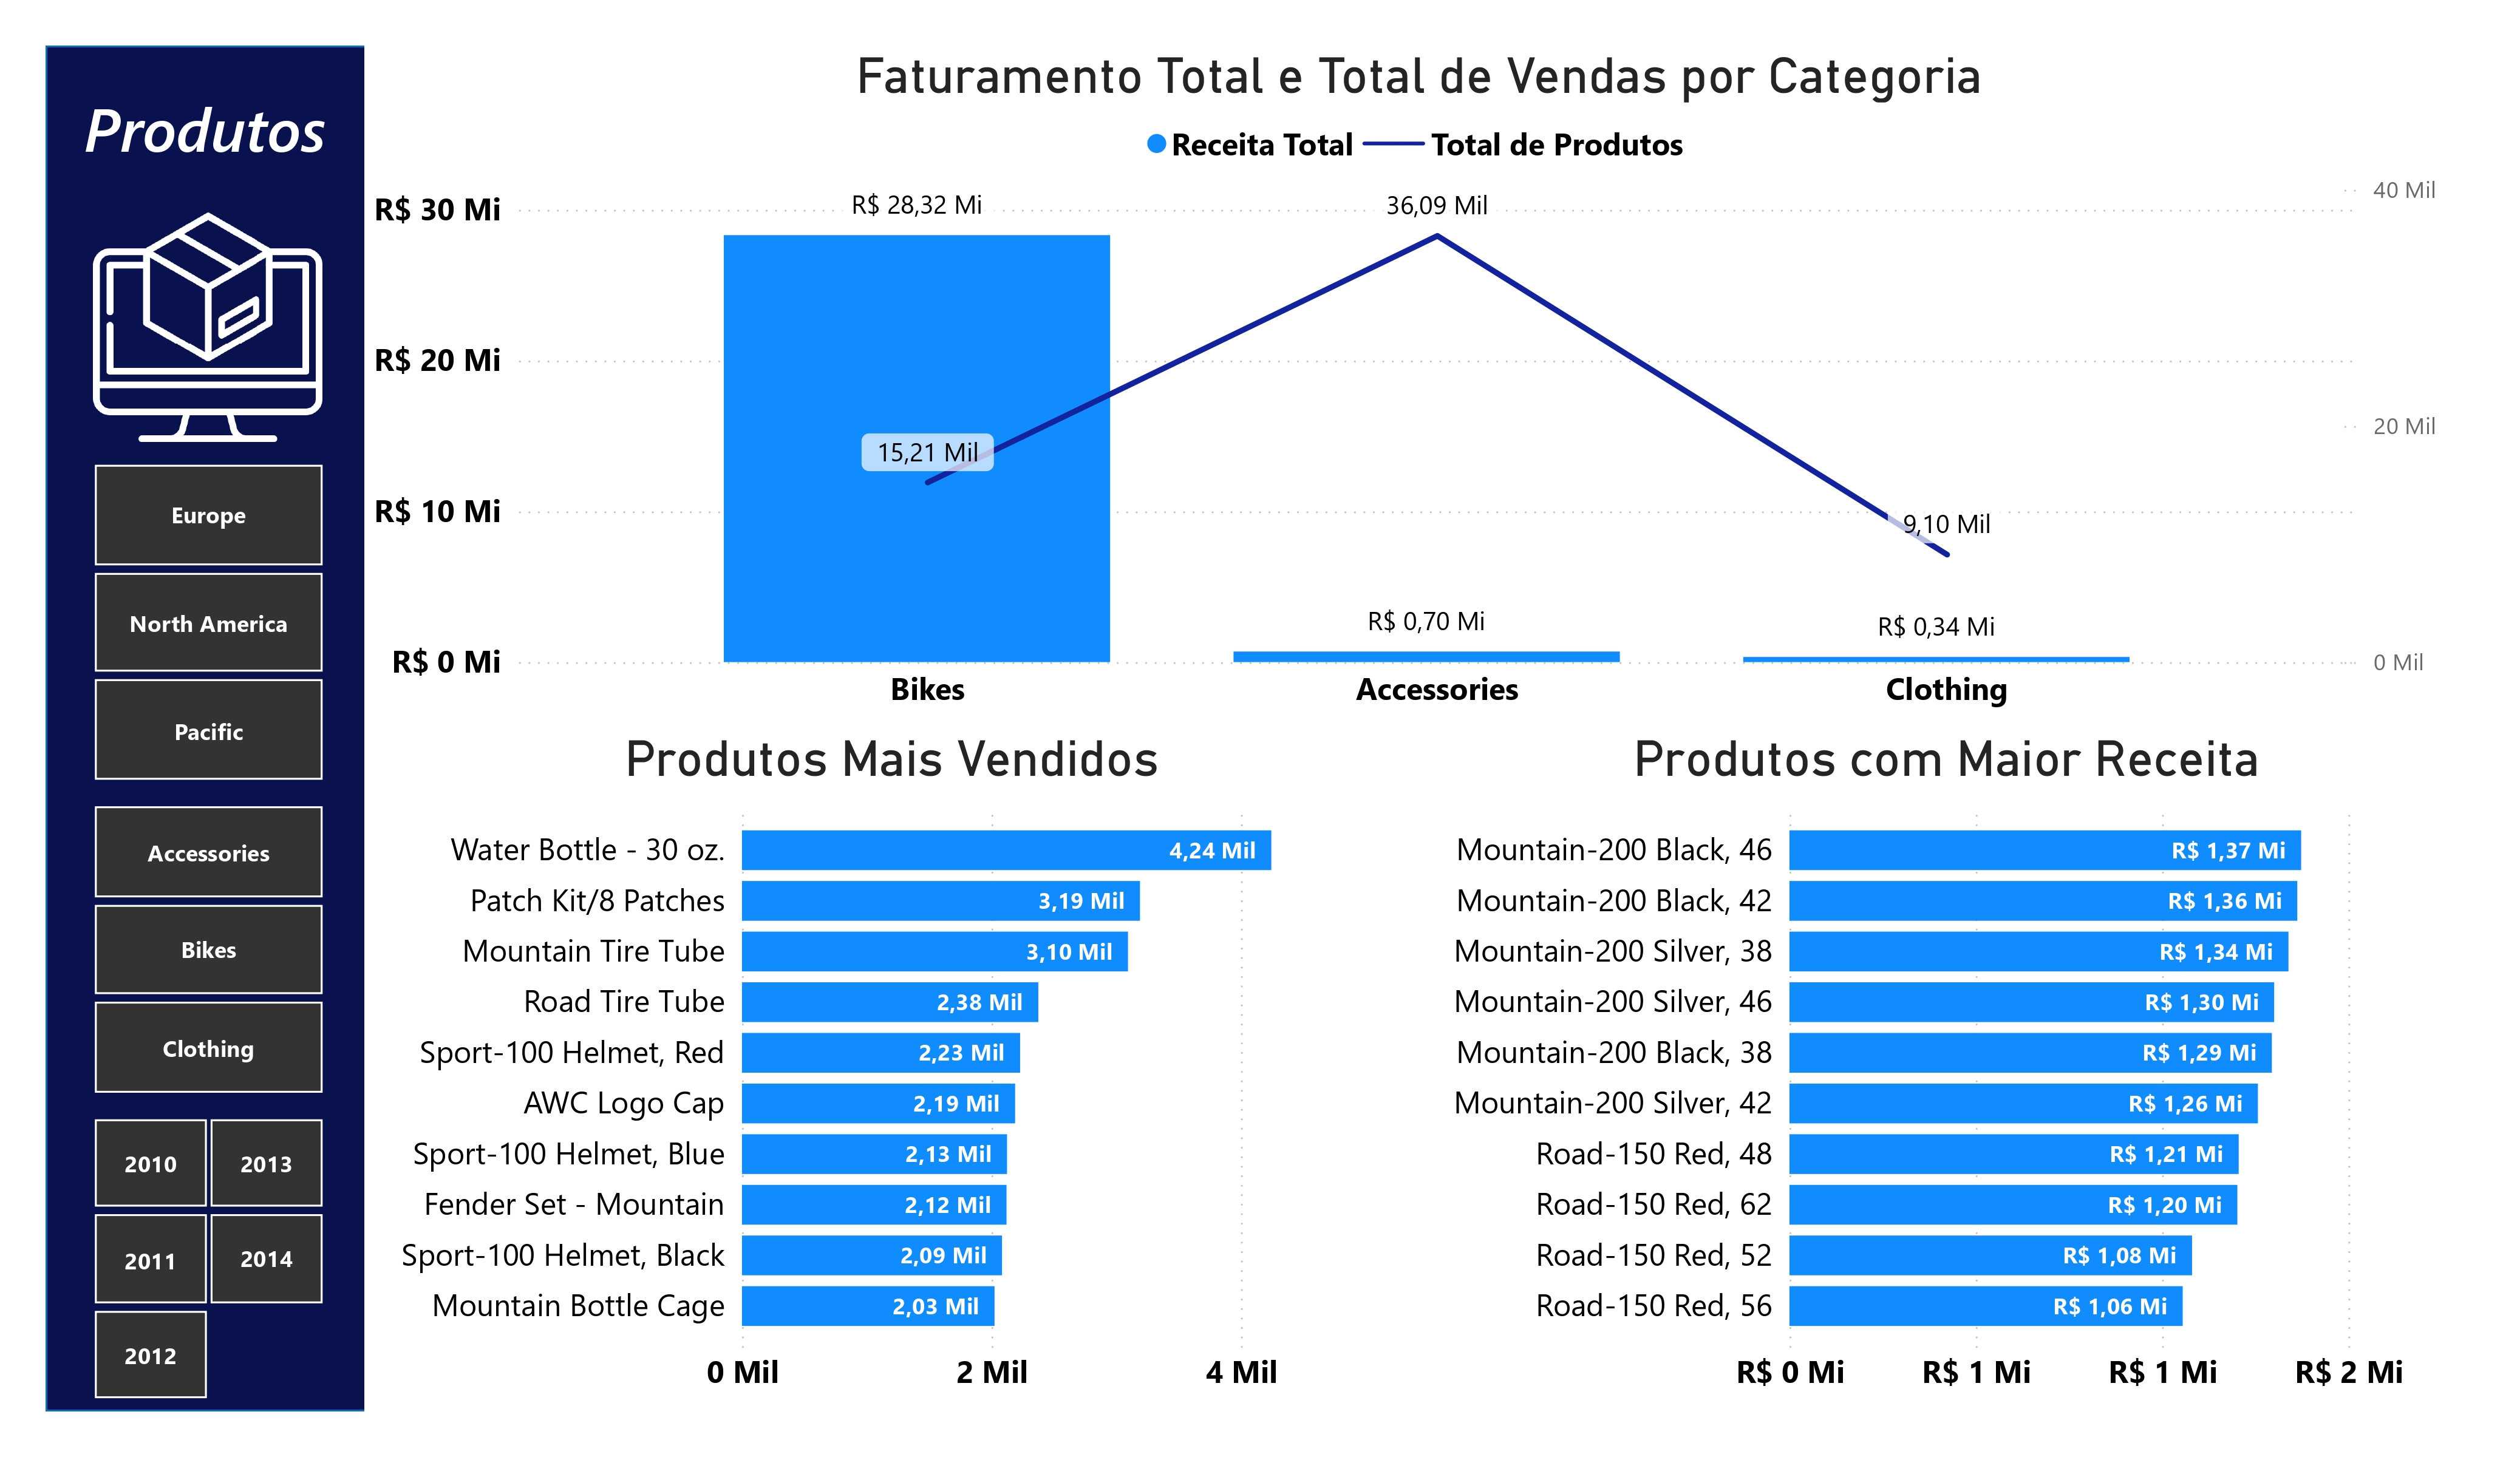

What the dashboard file says about the page in this screenshot:
{"tool":"powerbi","page":{"name":"Produtos","canvas":[1280,720],"ordinal":1},"visuals":[{"type":"shape","box":[0,0,169,720],"z":0},{"type":"lineStackedColumnComboChart","title":"Faturamento Total e Total de Vendas por Categoria","fields":{"Category":["BaseAW.EnglishProductCategoryName"],"Y":["BaseAW.Receita Total"],"Y2":["BaseAW.Total de Produtos"]},"box":[168.3,0,1112.2,360],"z":1000},{"type":"barChart","title":"Produtos Mais Vendidos","fields":{"Y":["Sum(BaseAW.OrderQuantity)"],"Category":["BaseAW.EnglishProductName"]},"box":[168.3,360,556.1,360],"z":2000},{"type":"textbox","box":[0,16.1,168.3,67.3],"z":3000},{"type":"image","box":[0,83.4,169.8,130.2],"z":4000},{"type":"slicer","fields":{"Values":["BaseAW.EnglishProductCategoryName"]},"box":[0,393.7,169.8,165.4],"z":5000},{"type":"slicer","fields":{"Values":["Calendario.Ano"]},"box":[0,559,169.8,161],"z":6000},{"type":"slicer","fields":{"Values":["BaseAW.SalesTerritoryGroup"]},"box":[0,213.7,169.8,180],"z":7000},{"type":"barChart","title":"Produtos com Maior Receita","fields":{"Category":["BaseAW.EnglishProductName"],"Y":["BaseAW.Receita Total"]},"box":[724.4,360,556.1,360],"z":8000}]}

Visuals, with their boxes on the page's 1280x720 design canvas (x1, y1, x2, y2). These are canvas units, not pixel positions in the 2520x1457 screenshot, which may show the page scaled, cropped or inside an application window:
shape: 0/0/169/720
"Faturamento Total e Total de Vendas por Categoria" lineStackedColumnComboChart: 168/0/1280/360
"Produtos Mais Vendidos" barChart: 168/360/724/720
textbox: 0/16/168/83
image: 0/83/170/214
slicer - BaseAW.EnglishProductCategoryName: 0/394/170/559
slicer - Calendario.Ano: 0/559/170/720
slicer - BaseAW.SalesTerritoryGroup: 0/214/170/394
"Produtos com Maior Receita" barChart: 724/360/1280/720
